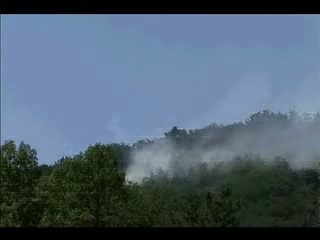smoke: (226, 74, 320, 165), (114, 111, 226, 183)
